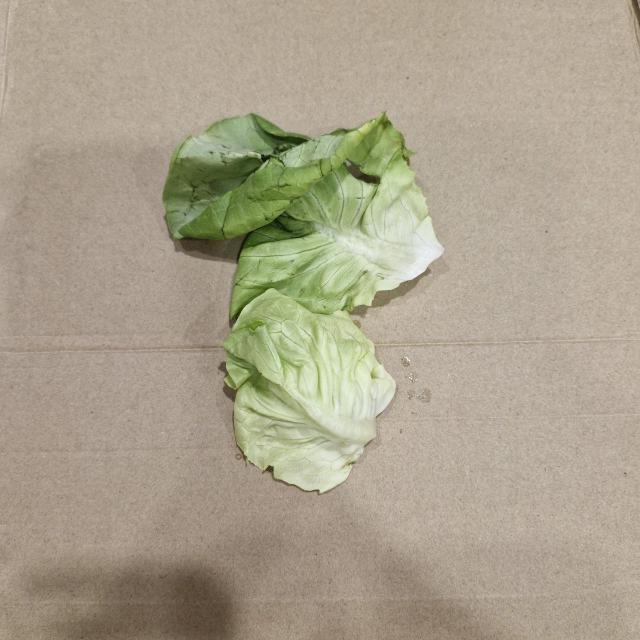food_waste: (164, 100, 458, 492)
